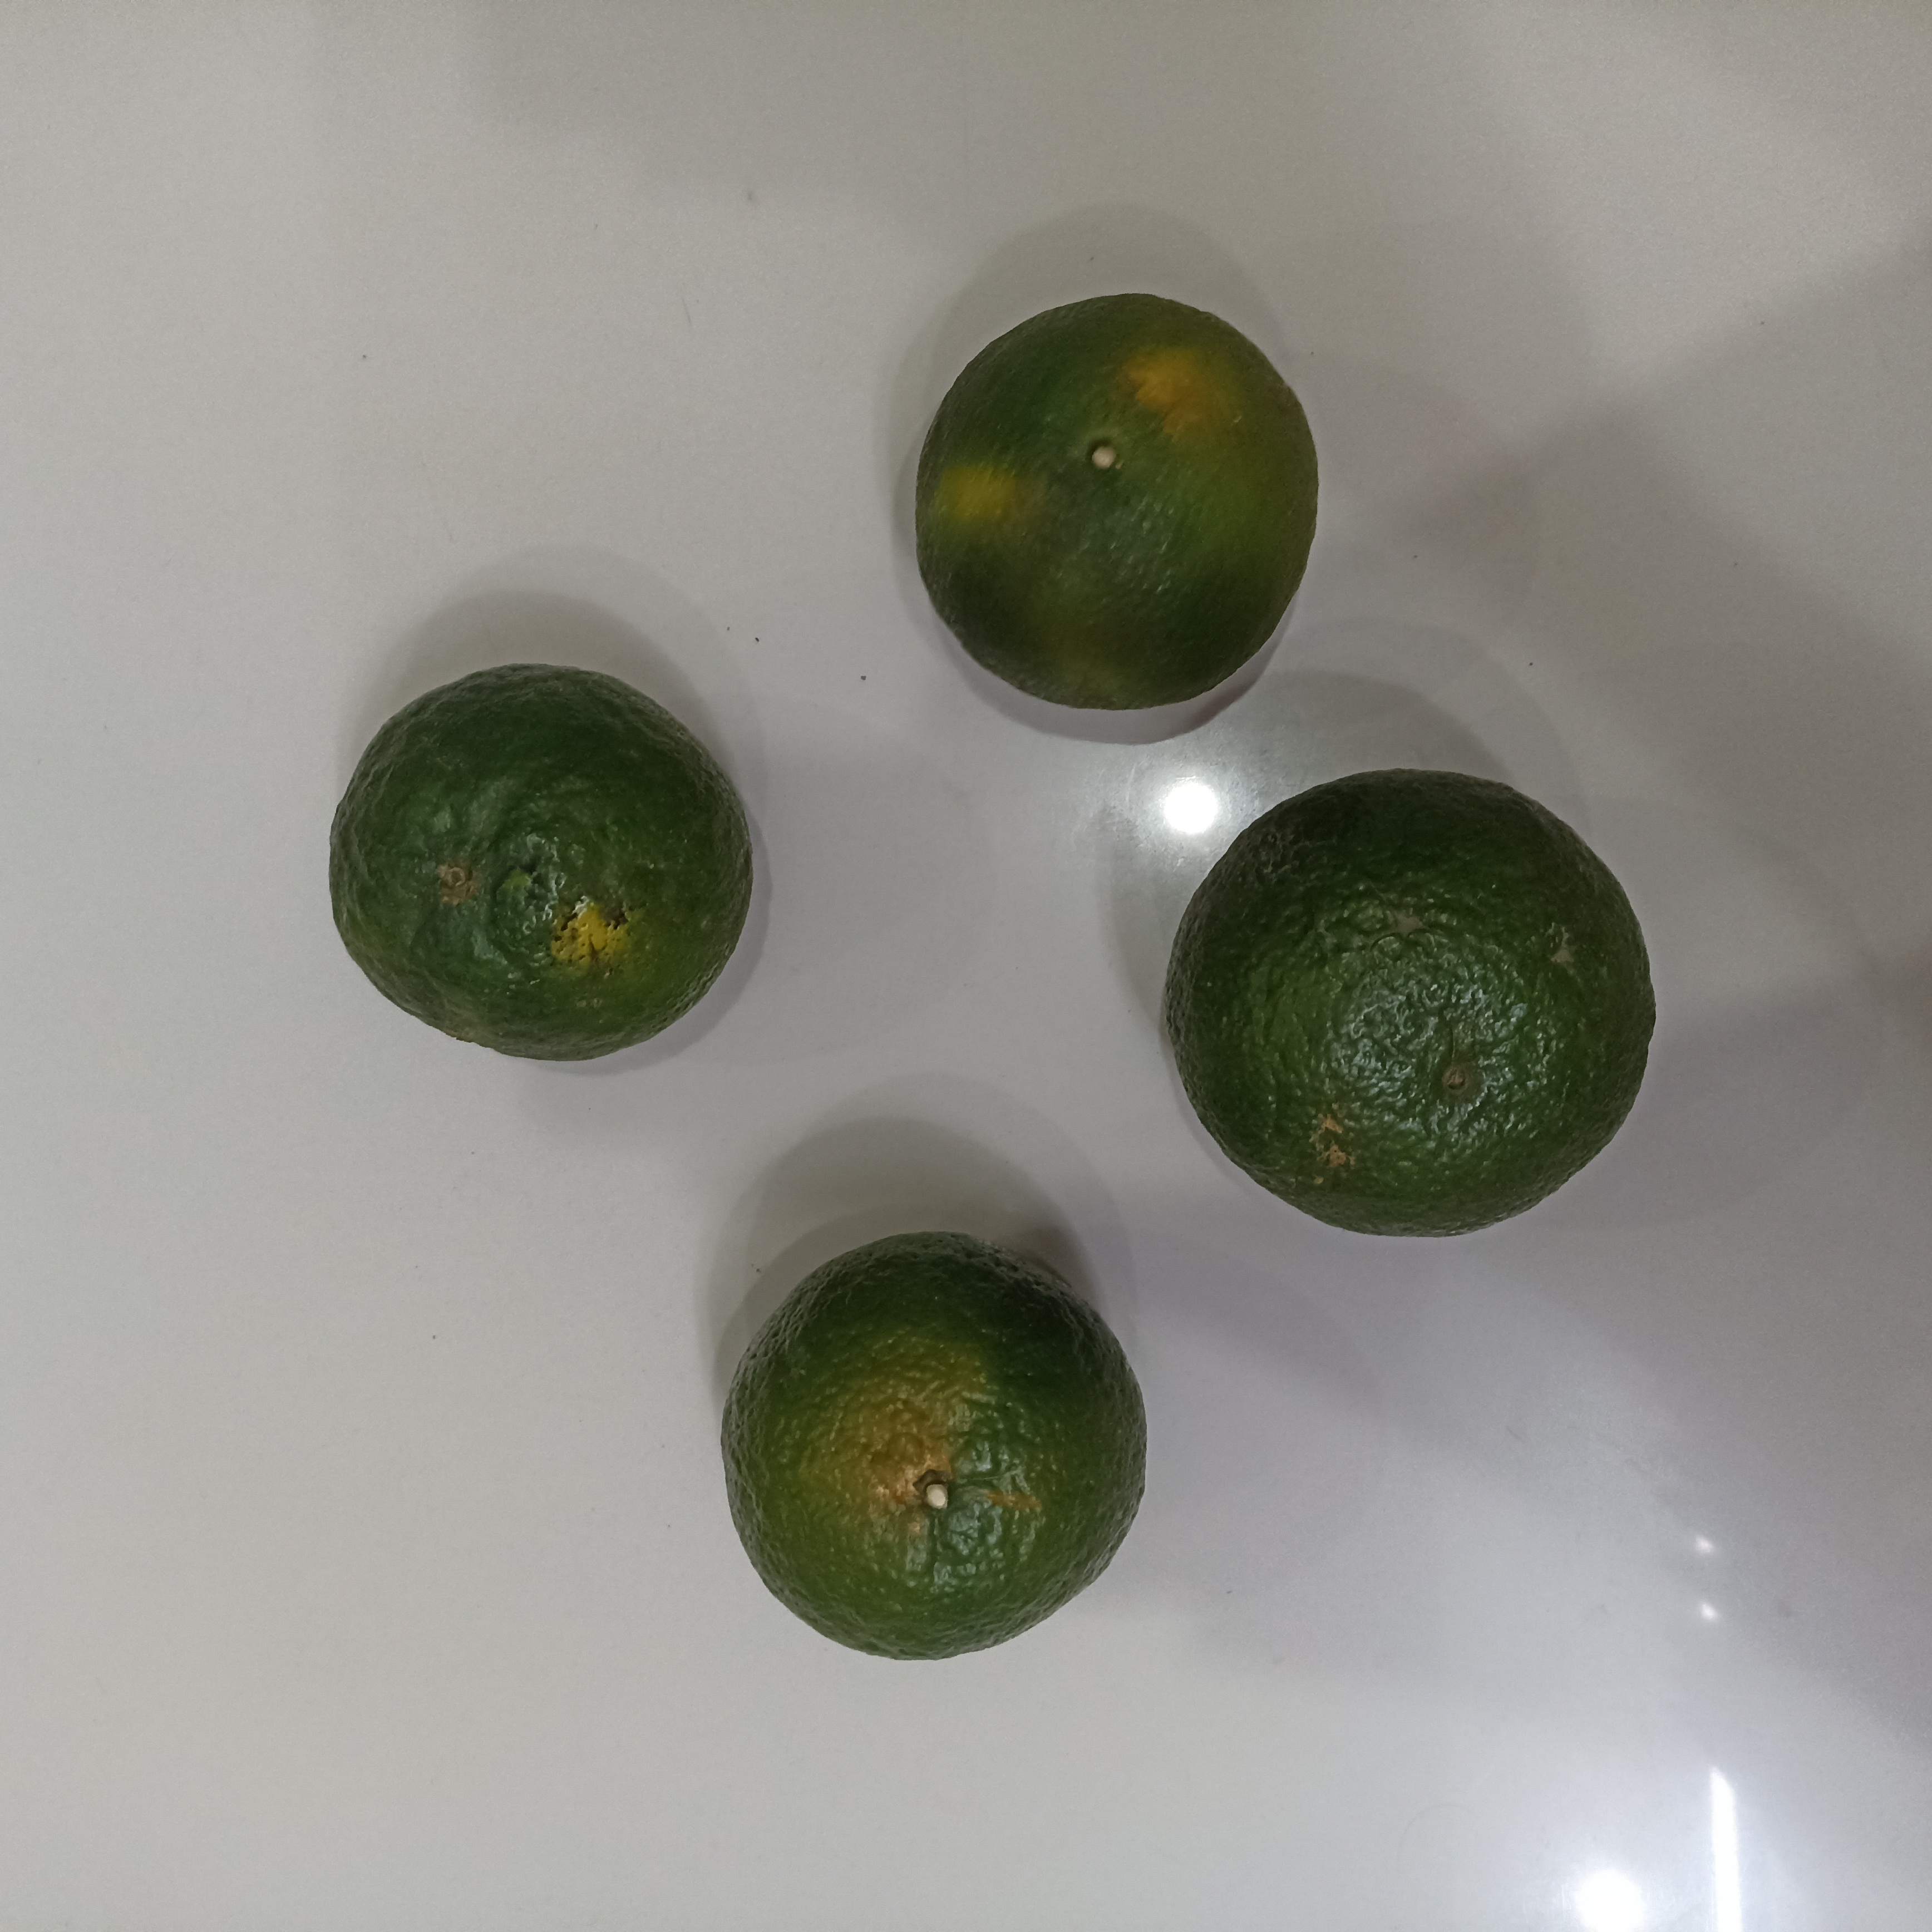Cam: (1168, 763, 1663, 1240), (718, 1224, 1145, 1665), (320, 663, 755, 1058), (918, 295, 1315, 711)
